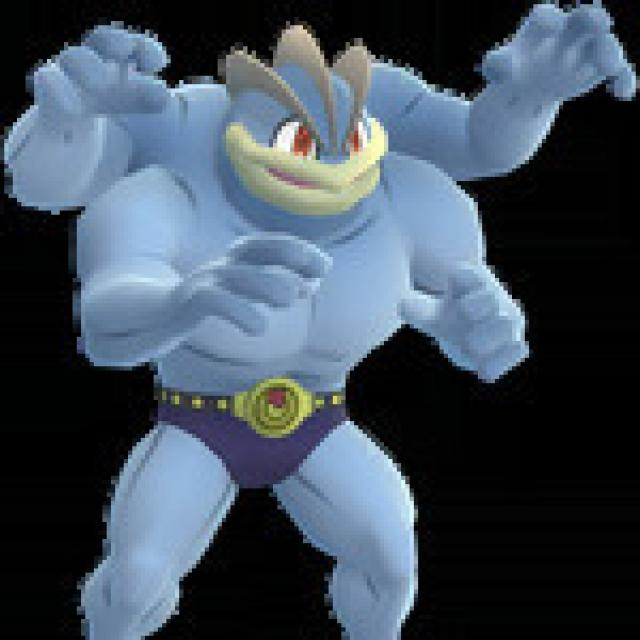Machamp: (66, 56, 524, 605)
